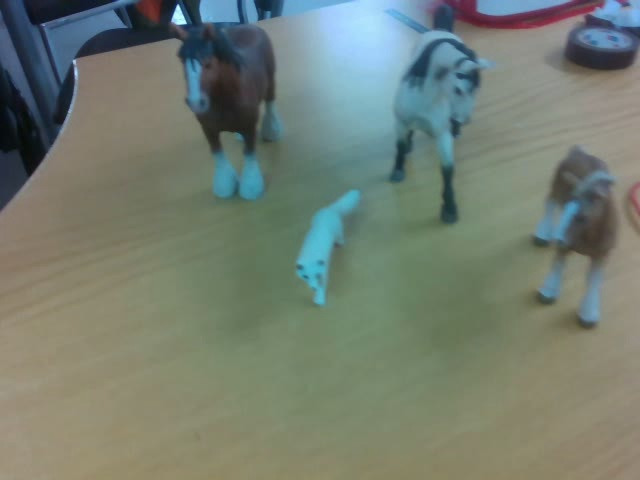toy: (391, 3, 494, 222), (169, 21, 283, 198), (533, 143, 621, 326), (293, 187, 361, 308)
